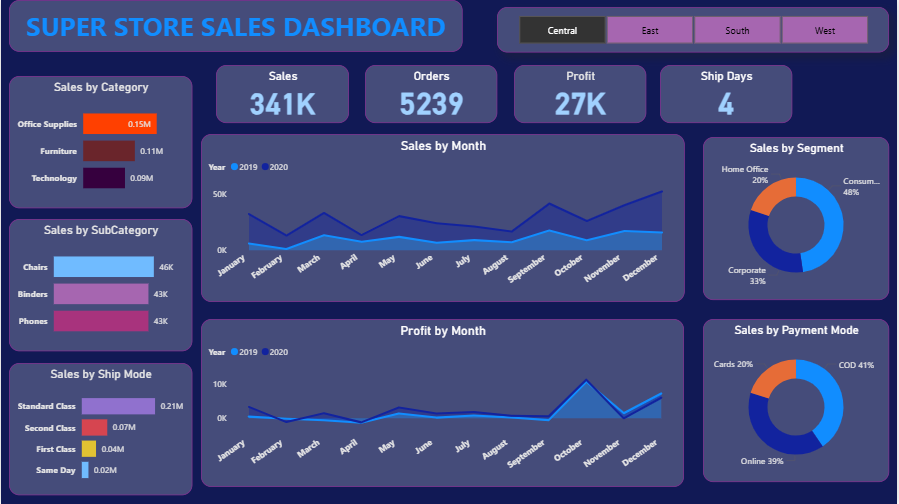

Layout of this report page (visuals, bound fields, positions):
{"tool":"powerbi","page":{"name":"Page 1","canvas":[1280,720],"ordinal":0},"visuals":[{"type":"clusteredBarChart","title":"Sales by Category","fields":{"Category":["Sheet1.Category"],"Y":["Sum(Sheet1.Sales)"]},"box":[11,108.7,261.5,188.6],"z":0},{"type":"clusteredBarChart","title":"Sales by SubCategory","fields":{"Category":["Sheet1.Sub-Category"],"Y":["Sum(Sheet1.Sales)"]},"box":[11,312.4,261.5,188.6],"z":1000},{"type":"clusteredBarChart","title":"Sales by Ship Mode","fields":{"Category":["Sheet1.Ship Mode"],"Y":["Sum(Sheet1.Sales)"]},"box":[11,518.9,261.5,188.6],"z":2000},{"type":"stackedAreaChart","title":" Sales by Month","fields":{"Y":["Sum(Sheet1.Sales)"],"Category":["Sheet1.Order Date.Variation.Date Hierarchy.Month","Sheet1.Order Date.Variation.Date Hierarchy.Day"],"Series":["Sheet1.Order Date.Variation.Date Hierarchy.Year"]},"box":[286.3,191.3,690.9,240],"z":3000},{"type":"stackedAreaChart","title":" Profit by Month","fields":{"Category":["Sheet1.Order Date.Variation.Date Hierarchy.Month","Sheet1.Order Date.Variation.Date Hierarchy.Day"],"Series":["Sheet1.Order Date.Variation.Date Hierarchy.Year"],"Y":["Sum(Sheet1.Profit)"]},"box":[286.3,455.6,690,240],"z":4000},{"type":"donutChart","title":"Sales by Segment","fields":{"Category":["Sheet1.Segment"],"Y":["Sum(Sheet1.Sales)"]},"box":[1003.4,195.4,265.6,232.6],"z":5000},{"type":"donutChart","title":" Sales by Payment Mode","fields":{"Category":["Sheet1.Payment Mode"],"Y":["Sum(Sheet1.Sales)"]},"box":[1003.4,455.6,265.6,232.6],"z":6000},{"type":"slicer","fields":{"Values":["Sheet1.Region"]},"box":[708.8,9.6,560.2,64.7],"z":6001},{"type":"textbox","box":[11,0,648.3,74.3],"z":6002},{"type":"card","title":"Sales","fields":{"Values":["Sum(Sheet1.Sales)"]},"box":[306.9,92.2,189.9,82.6],"z":6003},{"type":"card","title":"Orders","fields":{"Values":["Sum(Sheet1.Quantity)"]},"box":[520.3,92.2,188.6,82.6],"z":6004},{"type":"card","title":"Profit","fields":{"Values":["Sum(Sheet1.Profit)"]},"box":[732.2,92.2,188.6,82.6],"z":6005},{"type":"card","title":"Ship Days","fields":{"Values":["Avg(Sheet1.AvgDelivery)"]},"box":[941.4,92.2,188.6,82.6],"z":6006}]}

Visuals, with their boxes in screenshot pixels (x1, y1, x2, y2), scaled from the page's 1280x720 canvas onto the 899x504 screenshot:
"Sales by Category" clusteredBarChart: Rect(8, 76, 191, 208)
"Sales by SubCategory" clusteredBarChart: Rect(8, 219, 191, 351)
"Sales by Ship Mode" clusteredBarChart: Rect(8, 363, 191, 495)
" Sales by Month" stackedAreaChart: Rect(201, 134, 686, 302)
" Profit by Month" stackedAreaChart: Rect(201, 319, 686, 487)
"Sales by Segment" donutChart: Rect(705, 137, 891, 300)
" Sales by Payment Mode" donutChart: Rect(705, 319, 891, 482)
slicer - Sheet1.Region: Rect(498, 7, 891, 52)
textbox: Rect(8, 0, 463, 52)
"Sales" card: Rect(216, 65, 349, 122)
"Orders" card: Rect(365, 65, 498, 122)
"Profit" card: Rect(514, 65, 647, 122)
"Ship Days" card: Rect(661, 65, 794, 122)
